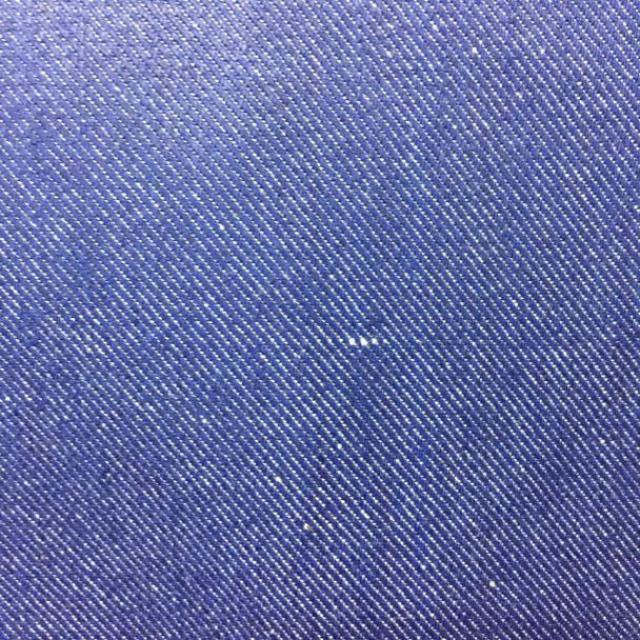Knot: (341, 336, 389, 349)
